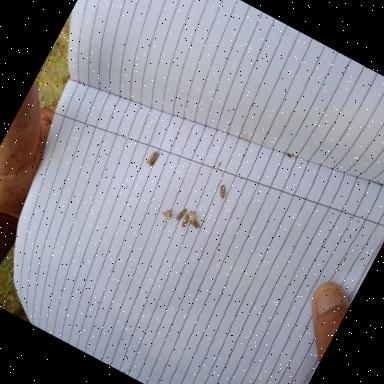pbw: (146, 148, 164, 172), (213, 184, 230, 204), (144, 148, 156, 166), (187, 218, 203, 231), (174, 206, 187, 222), (185, 210, 199, 224), (178, 213, 190, 229), (160, 208, 174, 219)
